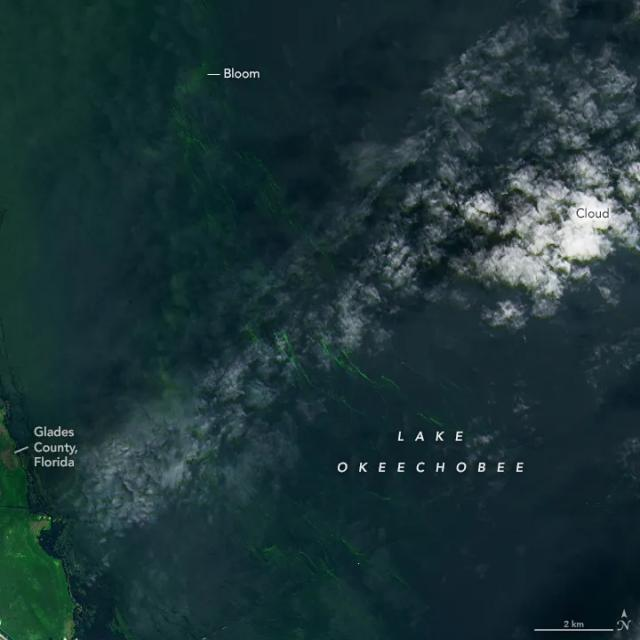algal: (103, 16, 266, 334), (9, 79, 100, 317)
oil spill: (138, 320, 156, 347), (144, 112, 155, 126), (148, 332, 155, 338), (132, 131, 137, 134)
